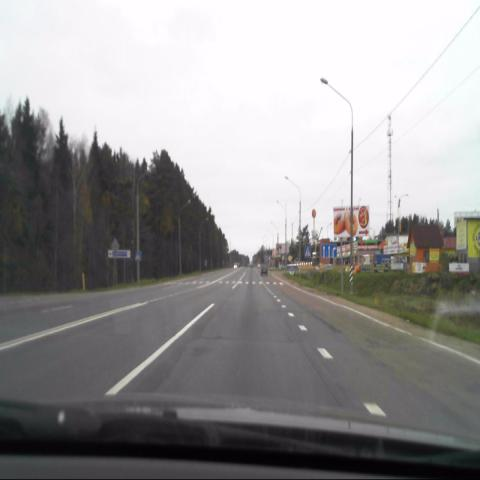5_15_1: (321, 243, 337, 258)
